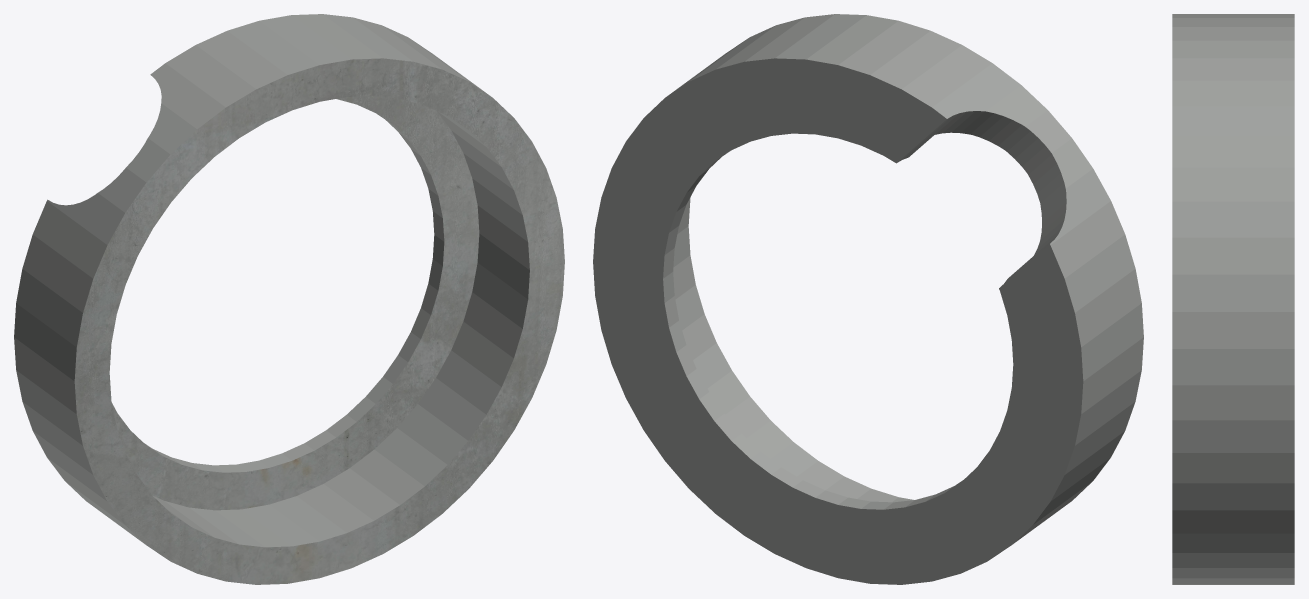
Rendered from pool_005.obj.
3 views of the same model, side by side, from view 1: azimuth 30°, elevation 25°; view 2: azimuth 150°, elevation 25°; view 3: azimuth 270°, elevation 25° (orthographic).
Bounding box in the file's own units: 14 × 14 × 3.
